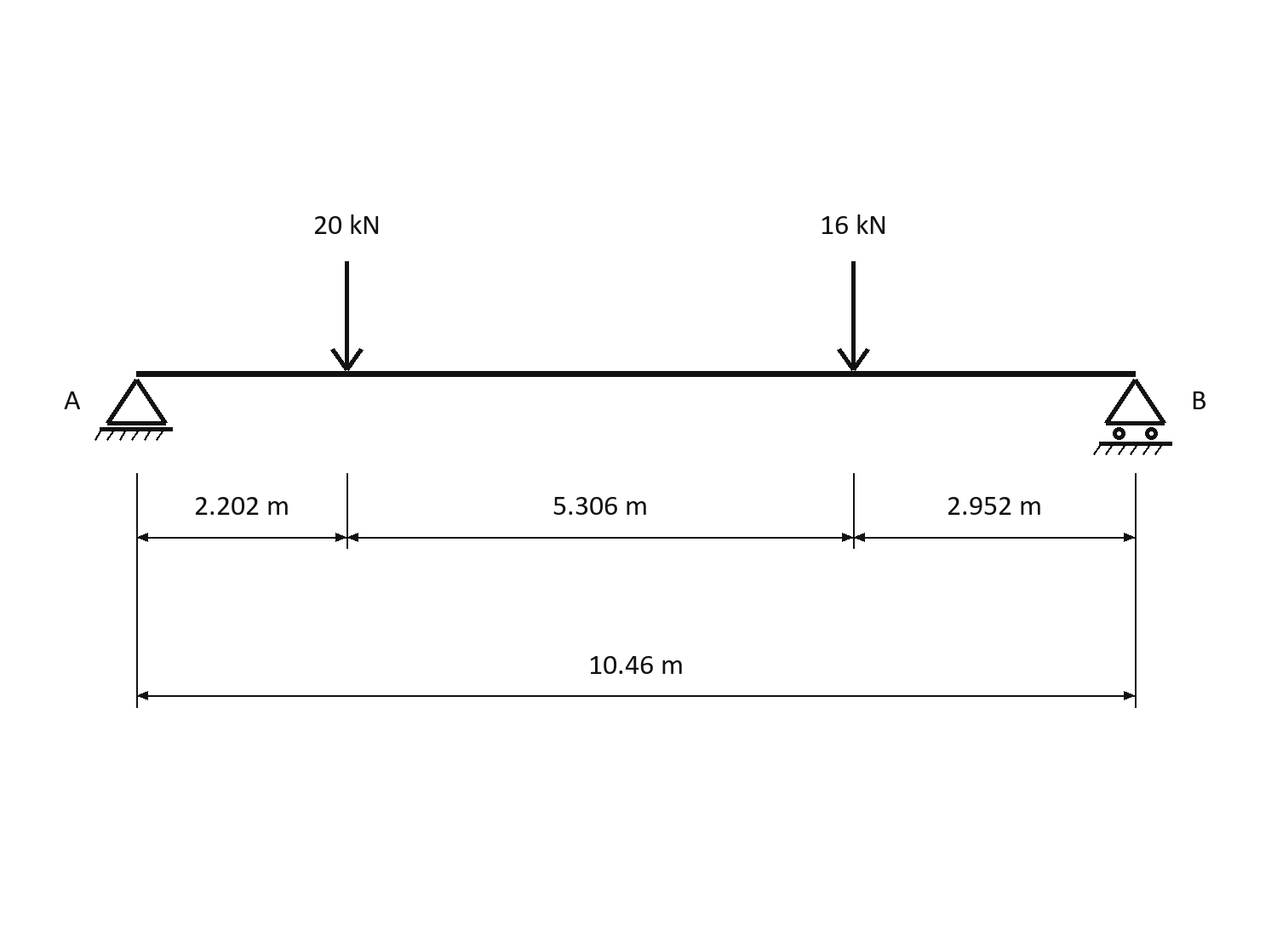pin_support: (94, 379, 173, 441)
point_load: (330, 261, 364, 371), (837, 261, 870, 371)
roller_support: (1093, 379, 1172, 455)
